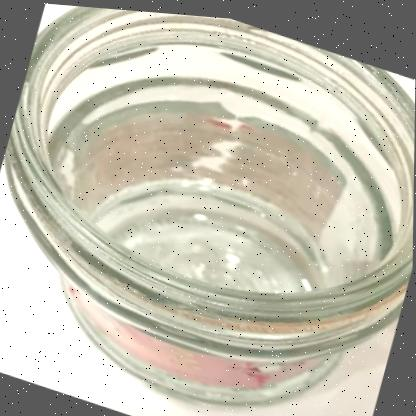Glass: (4, 5, 415, 402)
